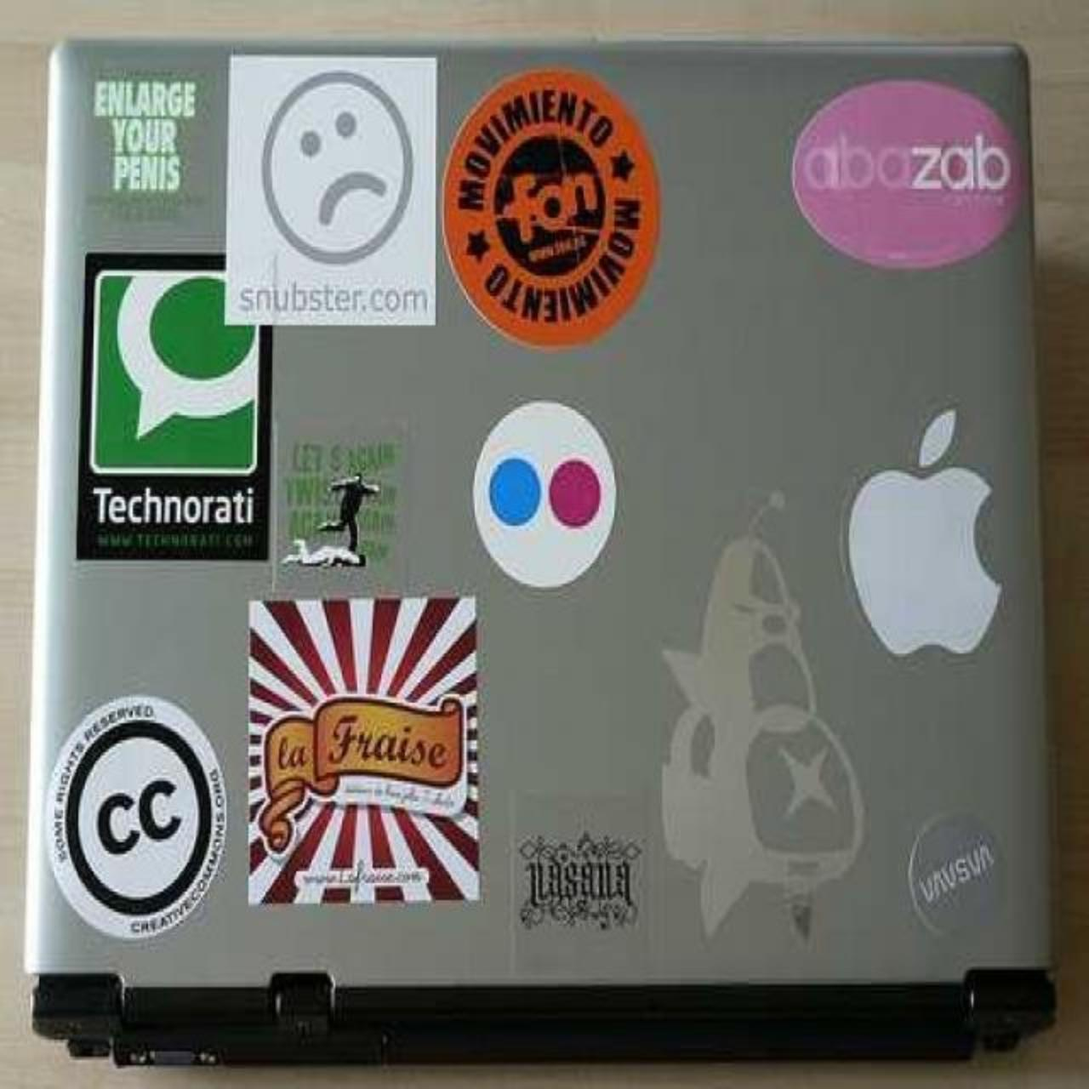laptop: (6, 14, 1080, 1081)
